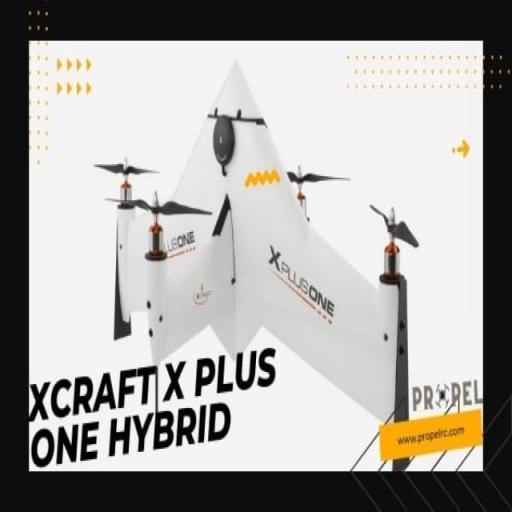uav: (104, 46, 416, 352)
